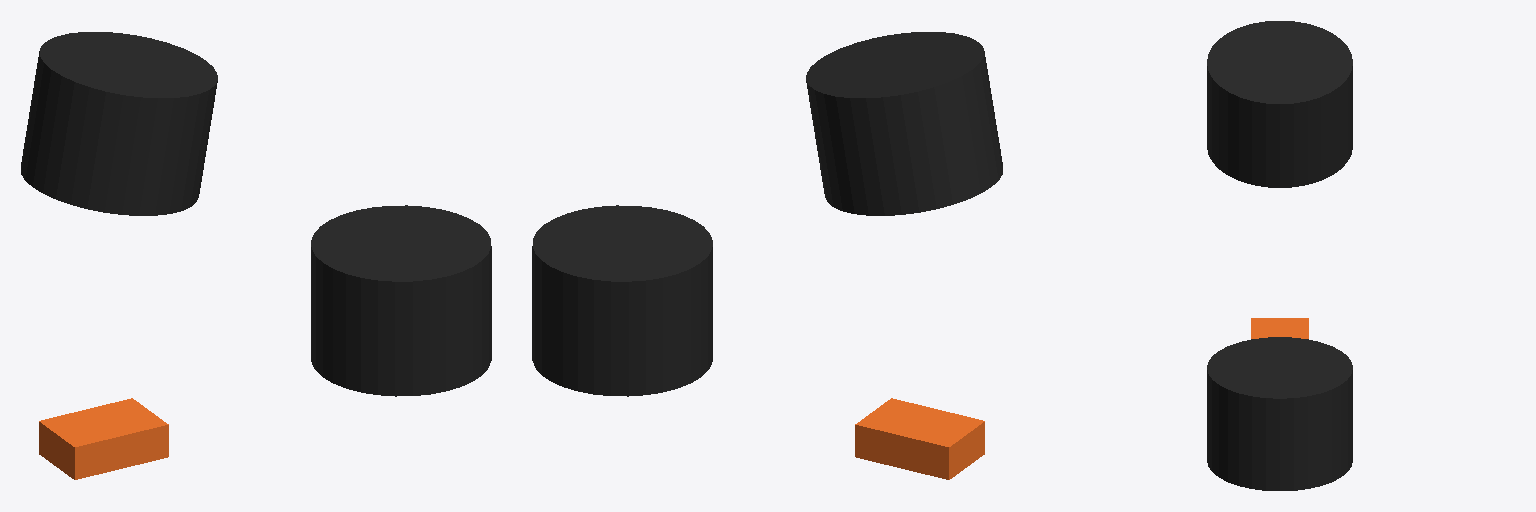
URDF robot description (turtlebot_sim):
<!--
  Copyright 2016 The Cartographer Authors

  Licensed under the Apache License, Version 2.0 (the "License");
  you may not use this file except in compliance with the License.
  You may obtain a copy of the License at

       http://www.apache.org/licenses/LICENSE-2.0

  Unless required by applicable law or agreed to in writing, software
  distributed under the License is distributed on an "AS IS" BASIS,
  WITHOUT WARRANTIES OR CONDITIONS OF ANY KIND, either express or implied.
  See the License for the specific language governing permissions and
  limitations under the License.

  p3at realsense and px4 links:
	lidar link: camera_depth_optical_frame
	imu link: base_link
-->

<robot name="turtlebot_sim">
  <material name="orange">
    <color rgba="1.0 0.5 0.2 1" />
  </material>
  <material name="gray">
    <color rgba="0.2 0.2 0.2 1" />
  </material>

  <link name="imu_link">
    <visual>
      <origin xyz="0.0 0.0 0.0" />
      <geometry>
        <box size="0.06 0.04 0.02" />
      </geometry>
      <material name="orange" />
    </visual>
  </link>

  <link name="camera_depth_optical_frame">
    <visual>
      <origin xyz="0.0 0.0 0.0" />
      <geometry>
        <cylinder length="0.07" radius="0.05" />
      </geometry>
      <material name="gray" />
    </visual>
  </link>

  <link name="base_scan">
    <visual>
      <origin xyz="0.0 0.0 0.0" />
      <geometry>
        <cylinder length="0.07" radius="0.05" />
      </geometry>
      <material name="gray" />
    </visual>
  </link>

  <link name="base_link" />
  <link name="base_footprint" />

  <joint name="base_joint" type="fixed">
    <parent link="base_footprint" />
    <child link="base_link" />
    <origin xyz="0 0 0" rpy="0 0 0" />
  </joint>

  <joint name="imu_link_joint" type="fixed">
    <parent link="base_link" />
    <child link="imu_link" />
    <origin xyz="0 0 0" rpy="0 0 0" />
  </joint>

  <joint name="camera_depth_optical_frame_joint" type="fixed">
    <parent link="base_link" />
    <child link="camera_depth_optical_frame" />
    <origin xyz="0.01 0. 0.19" rpy="0. -0.1745 3.1416" />
  </joint>

  <joint name="lidar_link" type="fixed">
    <parent link="base_link" />
    <child link="base_scan" />
    <origin xyz="0.19 0. 0.04" rpy="0. 0. 0." />
  </joint>
</robot>

--- Facts derived from the render (not from the file) ---
The picture shows the robot from 3 angles, left to right: view 1: azimuth 30°, elevation 25°; view 2: azimuth 150°, elevation 25°; view 3: azimuth 270°, elevation 25°; orthographic projection.
Model turtlebot_sim with 5 links and 4 joints (4 fixed), rooted at base_footprint, posed every joint at zero.
Visible links, largest first — view 1: base_scan, camera_depth_optical_frame, imu_link; view 2: base_scan, camera_depth_optical_frame, imu_link; view 3: camera_depth_optical_frame, base_scan, imu_link.
Link boxes in pixels (left/top/right/bottom): base_scan: left=311, top=205, right=491, bottom=396; camera_depth_optical_frame: left=21, top=32, right=217, bottom=215; imu_link: left=39, top=398, right=168, bottom=479; base_scan: left=532, top=205, right=712, bottom=396; camera_depth_optical_frame: left=806, top=32, right=1002, bottom=215; imu_link: left=855, top=398, right=984, bottom=479; camera_depth_optical_frame: left=1207, top=21, right=1352, bottom=187; base_scan: left=1207, top=337, right=1352, bottom=490; imu_link: left=1251, top=318, right=1308, bottom=338.
Size in the robot's own frame: 0.2853 by 0.1 by 0.2431 metres.
Geometry: primitives only (box / cylinder / sphere), no mesh files.